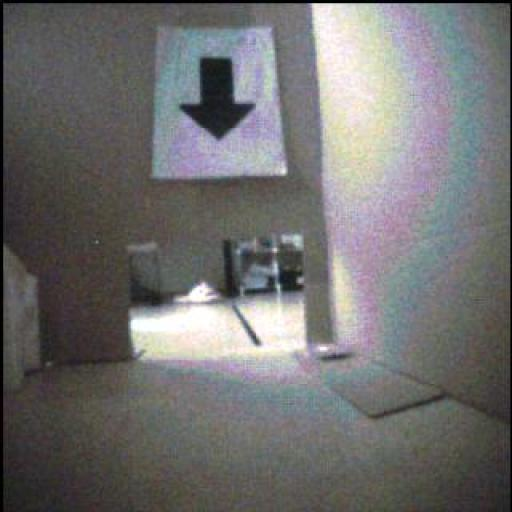arrow: (181, 59, 256, 140)
